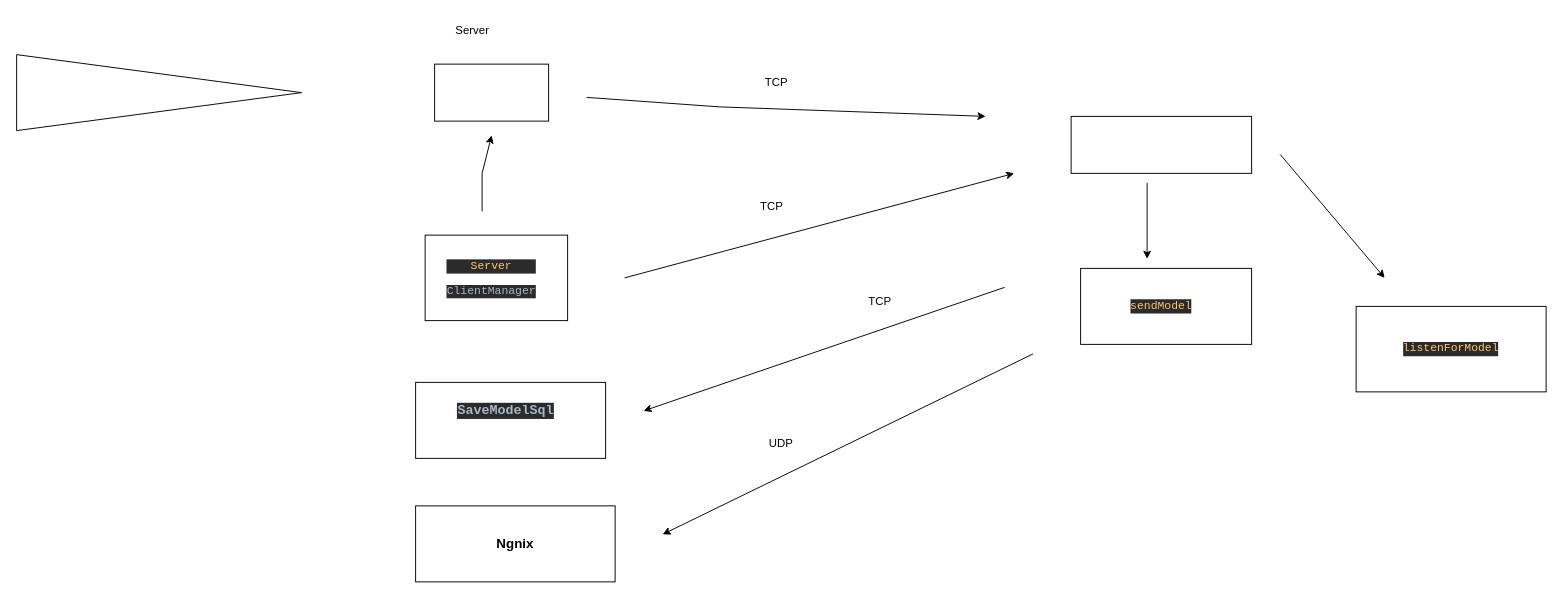
Some shapes in this 1563 by 599 pixel diagram are drawn without their labels. Here are the shapes that lost their labels. From the top down, the box of each, then its label:
(16, 54, 302, 131): http - запрос
(434, 63, 549, 121): HttpServer
(1070, 115, 1252, 173): Client
